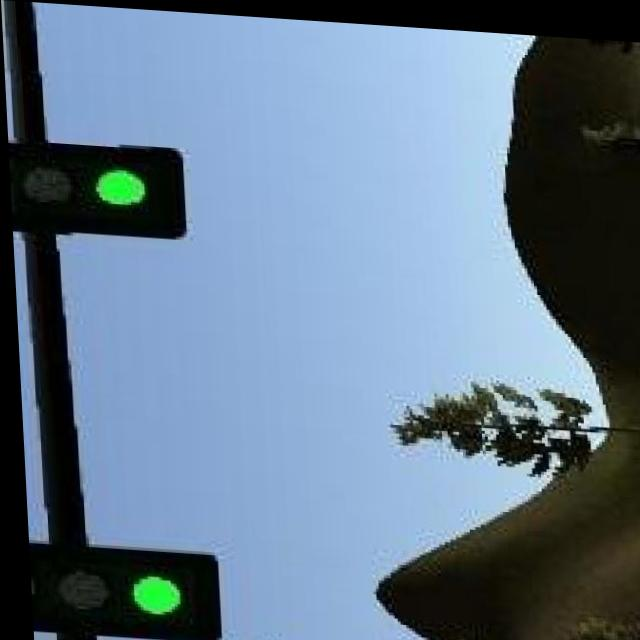green light: (9, 137, 190, 246), (25, 546, 212, 640)
